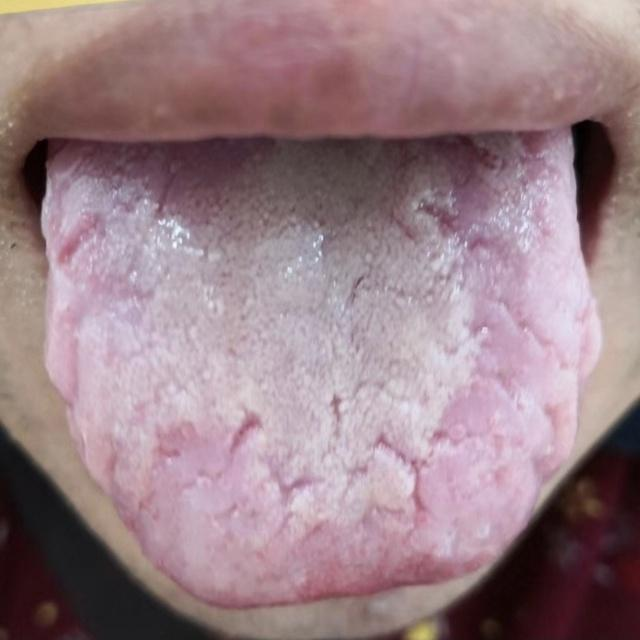baitaishe: (40, 131, 603, 608)
liewenshe: (225, 404, 432, 515)
